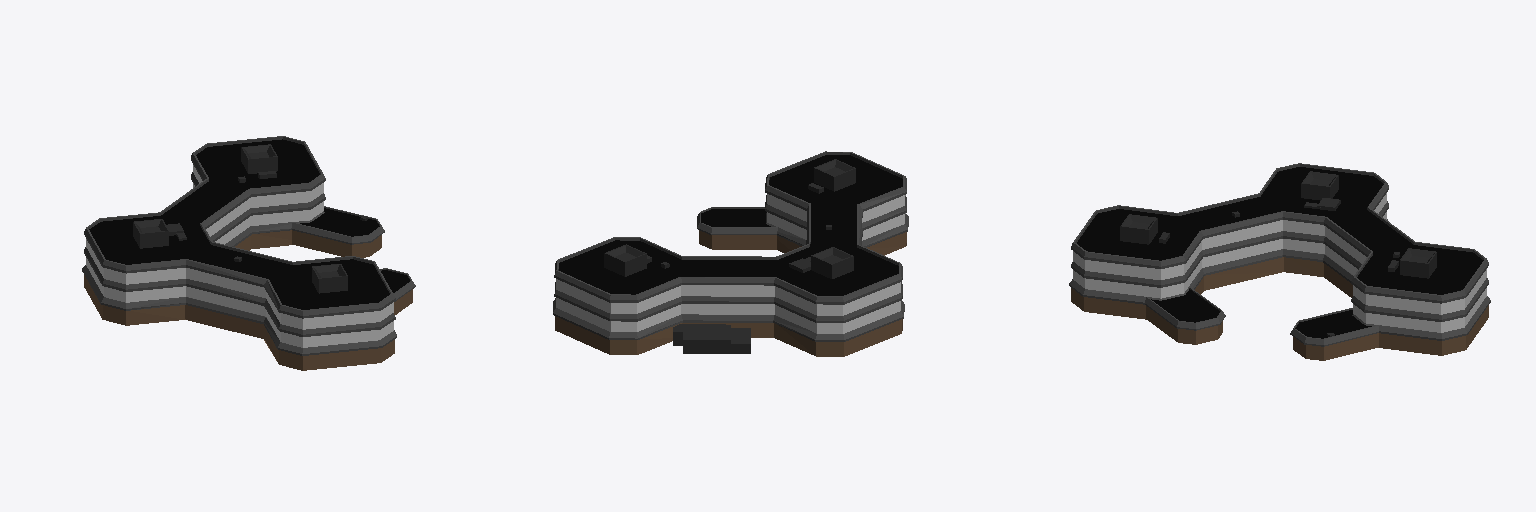
The model's file is dorsethouse_model_published.obj.
3 renders of one model, left to right at view 1: azimuth 30°, elevation 25°; view 2: azimuth 150°, elevation 25°; view 3: azimuth 270°, elevation 25°, orthographic.
Parts seen in each view (by area): view 1: Cube.006, Cube, Cube.004, Cube.005, Cube.002, Cube.010, Cube.009, Cube.008; view 2: Cube.006, Cube, Cube.004, Cube.002, Cube.005, Cube.020, Cube.008, Cube.007; view 3: Cube.006, Cube, Cube.004, Cube.002, Cube.005, Cube.010, Cube.008, Cube.009, Cube.007.
Part boxes in pixels (x1,y1,x2,y2): Cube.006: (84, 136, 395, 318); Cube: (86, 165, 393, 347); Cube.004: (82, 211, 396, 370); Cube.005: (84, 172, 395, 336); Cube.002: (133, 144, 367, 293); Cube.010: (292, 206, 384, 244); Cube.009: (292, 230, 381, 257); Cube.008: (380, 268, 415, 301); Cube.006: (554, 151, 906, 304); Cube: (556, 194, 905, 333); Cube.004: (553, 213, 908, 356); Cube.002: (604, 159, 855, 278); Cube.005: (554, 195, 906, 322); Cube.020: (673, 324, 750, 353); Cube.008: (697, 207, 777, 234); Cube.007: (699, 230, 776, 249); Cube.006: (1071, 163, 1488, 303); Cube: (1073, 193, 1486, 332); Cube.004: (1069, 219, 1490, 355); Cube.002: (1120, 171, 1436, 336); Cube.005: (1071, 201, 1488, 321); Cube.010: (1290, 308, 1379, 346); Cube.008: (1145, 287, 1225, 330); Cube.009: (1293, 333, 1378, 360); Cube.007: (1146, 306, 1222, 344).
Bounding box in the file's own units: 71.19 × 16.63 × 89.34.